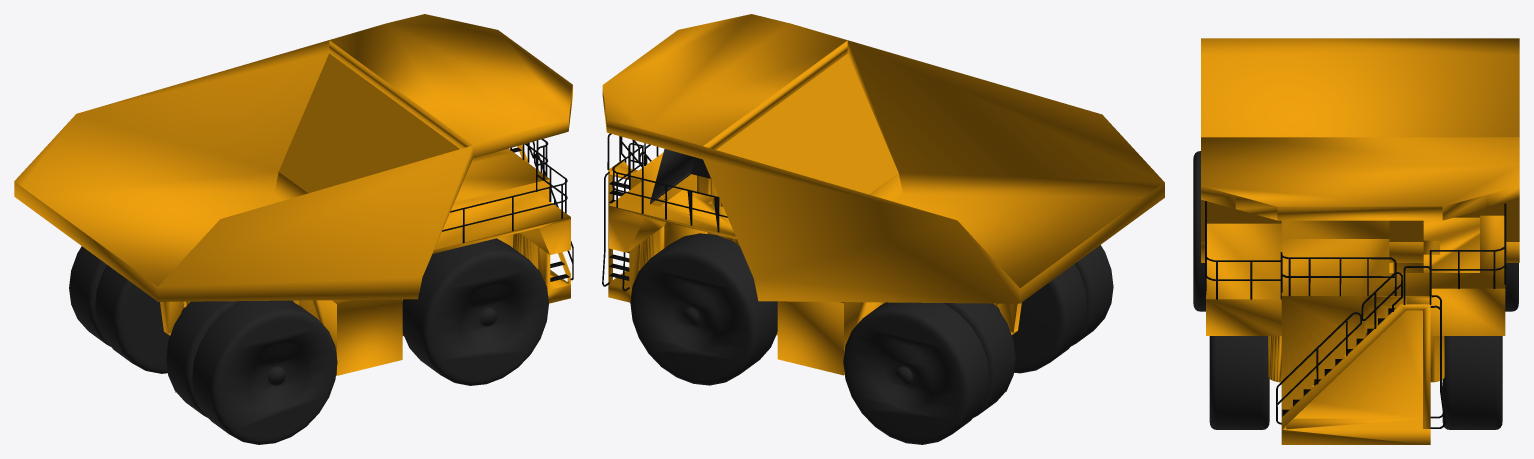
The model's file is truck.glb.
3 views of the same model, side by side, from view 1: azimuth 30°, elevation 25°; view 2: azimuth 150°, elevation 25°; view 3: azimuth 270°, elevation 25° (orthographic). The views are drawn at different scales.
Visible parts, largest first — view 1: body, wheel_back, wheel_front, step; view 2: body, wheel_back, wheel_front, step, window; view 3: body, wheel_front, step, wheel_back.
Part boxes in pixels (box(x1,y1,x2,y2)): body: box(14, 14, 572, 375); wheel_back: box(69, 246, 337, 444); wheel_front: box(402, 238, 548, 385); step: box(442, 139, 573, 281); body: box(602, 14, 1164, 375); wheel_back: box(843, 245, 1113, 444); wheel_front: box(630, 233, 777, 385); step: box(602, 133, 727, 291); window: box(650, 149, 710, 203); body: box(1201, 38, 1519, 444); wheel_front: box(1209, 336, 1502, 429); step: box(1205, 201, 1506, 428); wheel_back: box(1193, 151, 1518, 311).
Bounding box in the file's own units: 12.35 × 6.59 × 7.
